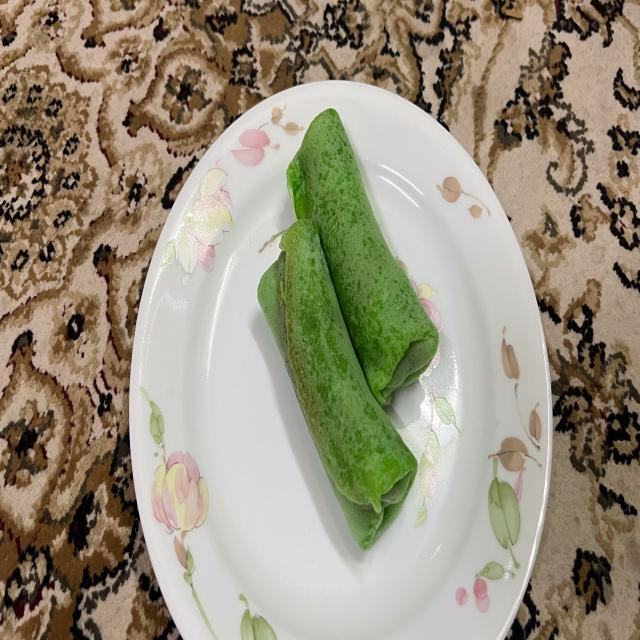Kuih-Ketayap: (258, 218, 418, 549), (286, 109, 439, 404)
